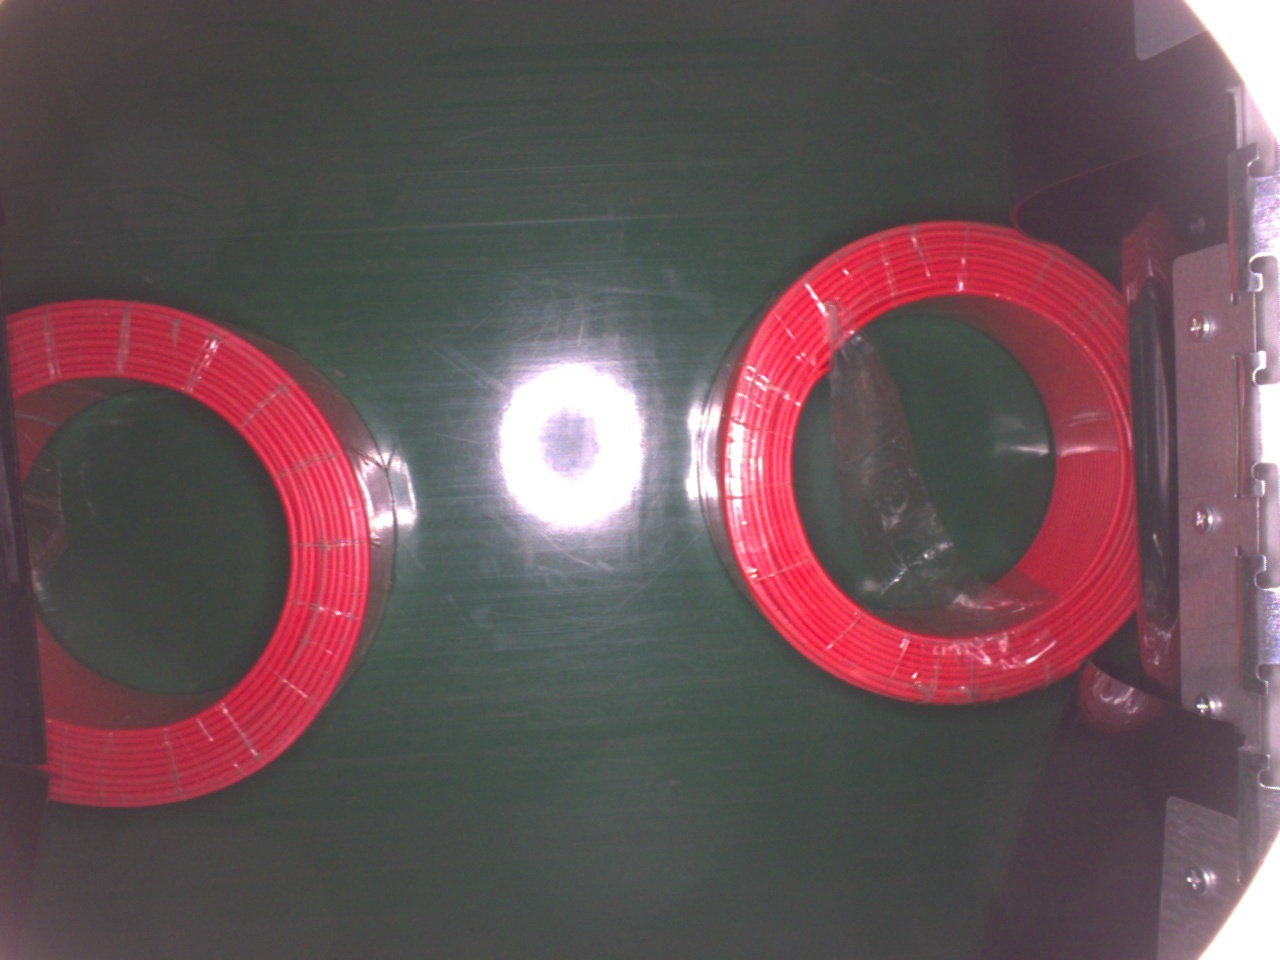red: (701, 223, 1140, 700), (8, 296, 393, 812)
